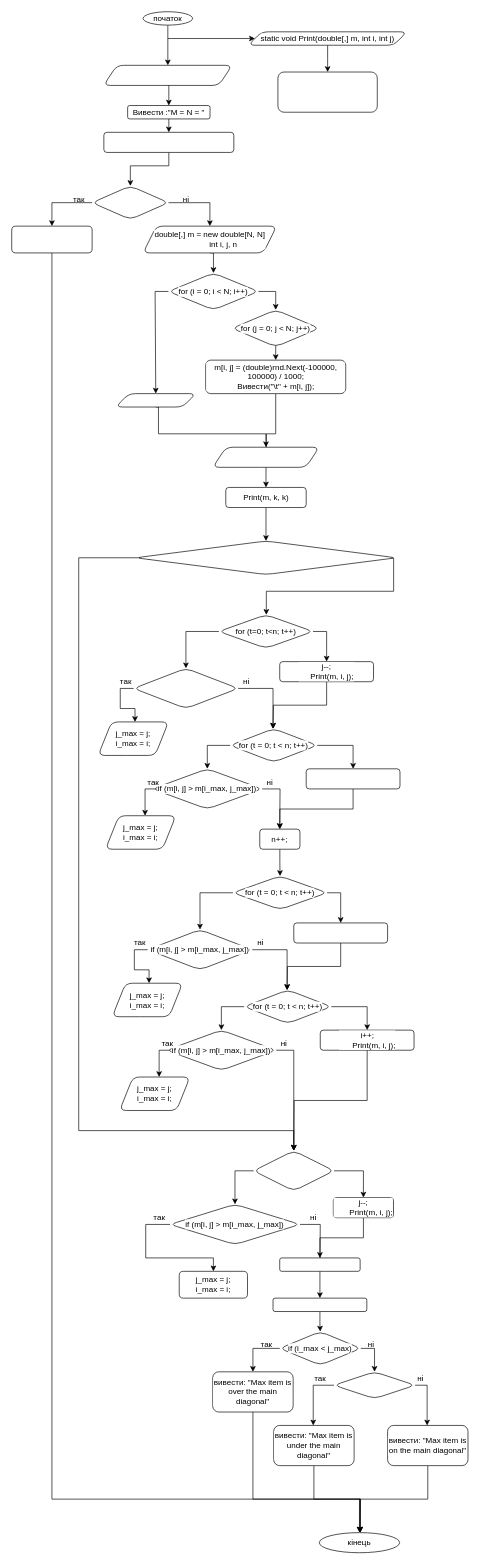
Image size: 480x1564. Some labels were removed from this diagram. The centre of each missing label's shape, as x and y in pixels:
for (;k > 0; k--): the point at 293,1170
for (n = 1, i_max = j_max = i = j = k; k < N-1; k++, n++): the point at 265,557
i--; Print(m, i, j);: the point at 353,778
if ( N % 2 == 0 ): the point at 130,202
if (i_max > j_max): the point at 374,1385
if (m[i,j] > m[i_max, j_max]): the point at 185,688
int k = N / 2; int t, i_max, j_max;: the point at 265,457
int N Random rnd = new Random (): the point at 167,75
j++; Print(m, i, j);: the point at 340,932
N = Convert . ToInt32 ( ReadLine ());: the point at 168,142
Print(m, i_max, j_max);: the point at 319,1304
WriteLine();: the point at 155,400
Вивести: "Invalid matrix size": the point at 51,239
вивести: "Max item:": the point at 319,1264
Вивести:("\tm[" + i + "," + j + "] = " + m[i, j]);: the point at 327,91
